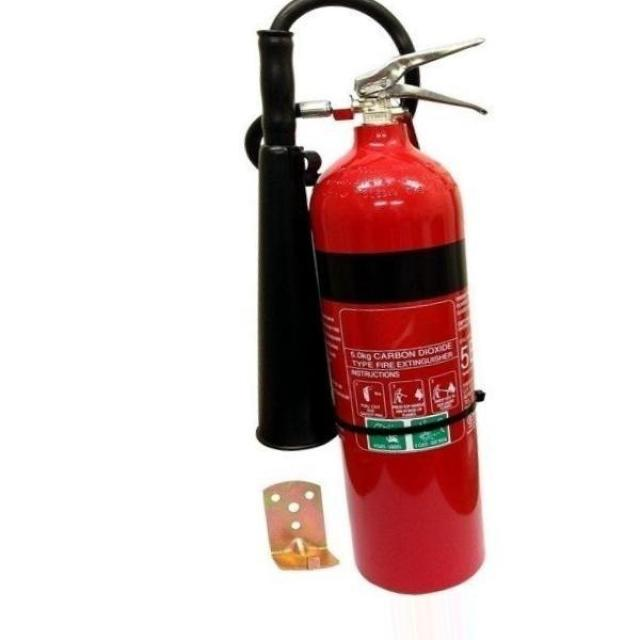fire_extinguisher: (243, 0, 501, 598)
